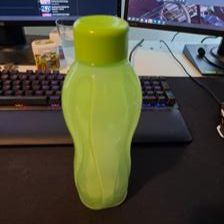bottle: (60, 10, 141, 211)
